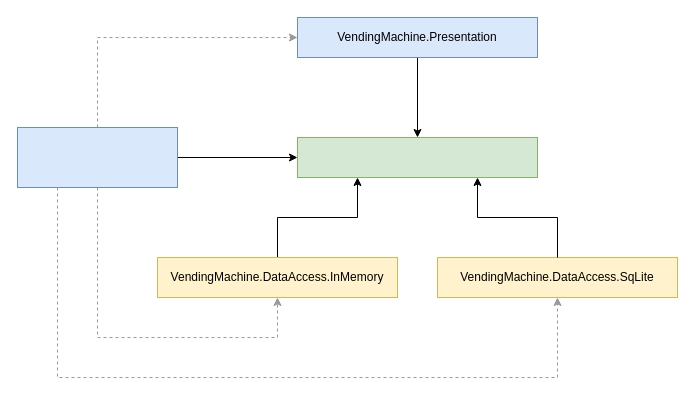
Image size: 695x403. Some labels were removed from this diagram. The box of each missing label's shape, as (x1, y1, x2, y2) in pixels:
VendingMachine (Bootstrapper): (16, 126, 178, 188)
VendingMachine.Business: (296, 136, 538, 178)
